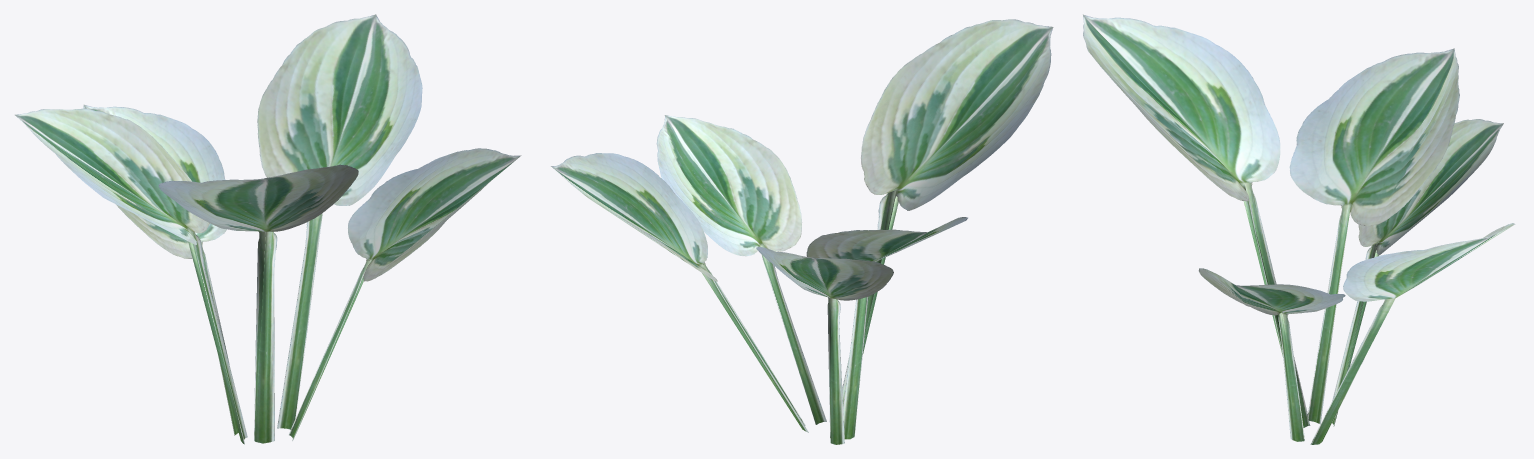
File: plant_small_wg_01S.fbx
The picture shows the model from 3 angles, left to right: view 1: azimuth 30°, elevation 25°; view 2: azimuth 150°, elevation 25°; view 3: azimuth 270°, elevation 25°; orthographic projection. The views are drawn at different scales.
Parts seen in each view (by area): view 1: plant_small_wg_01S; view 2: plant_small_wg_01S; view 3: plant_small_wg_01S.
Boxes of the visible parts, bbox=[...] form: plant_small_wg_01S: bbox=[15, 14, 521, 444]; plant_small_wg_01S: bbox=[551, 19, 1053, 444]; plant_small_wg_01S: bbox=[1083, 14, 1515, 444].
Bounding box in the file's own units: 63.36 × 57.47 × 63.03.
